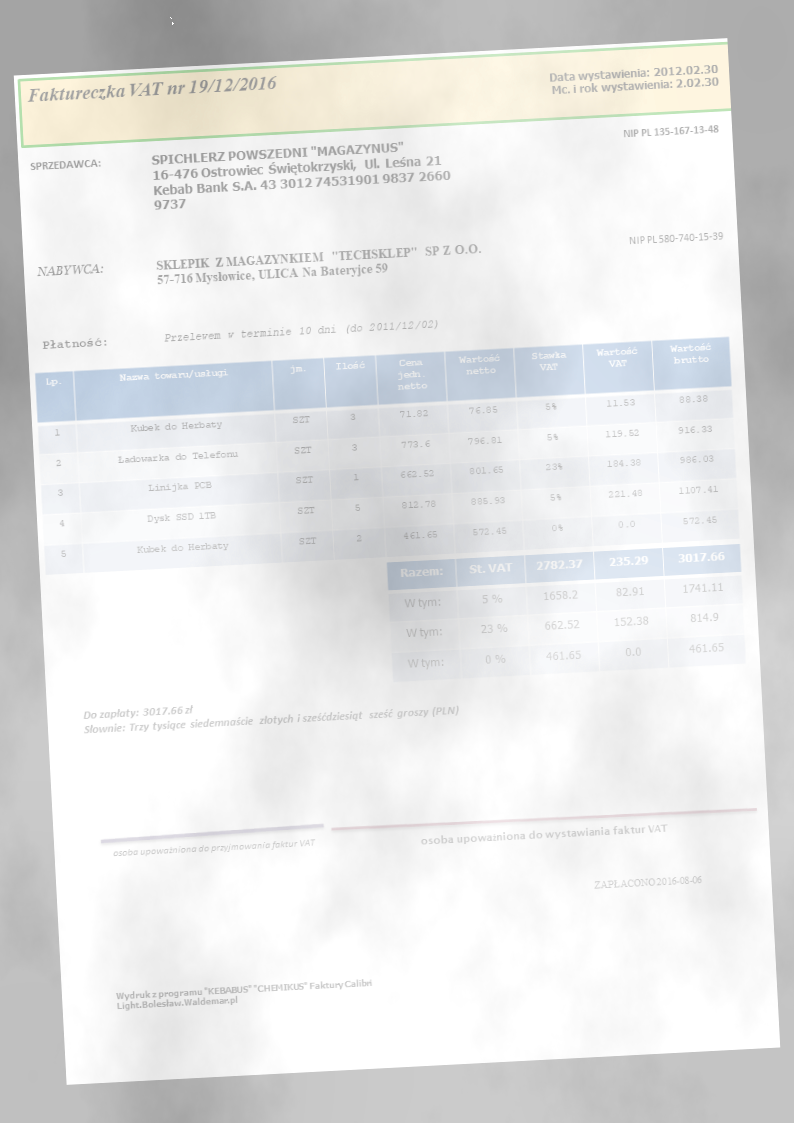Table: (33, 334, 742, 578), (385, 543, 748, 684)
TextBox: (148, 136, 454, 213), (80, 688, 461, 739), (154, 240, 483, 289), (114, 975, 376, 1012), (161, 315, 440, 347), (25, 72, 280, 107), (418, 820, 668, 849), (547, 60, 721, 97), (110, 836, 318, 862), (590, 871, 704, 892), (627, 228, 726, 249), (621, 120, 723, 140), (33, 258, 106, 280), (28, 155, 102, 174), (40, 334, 111, 352)
